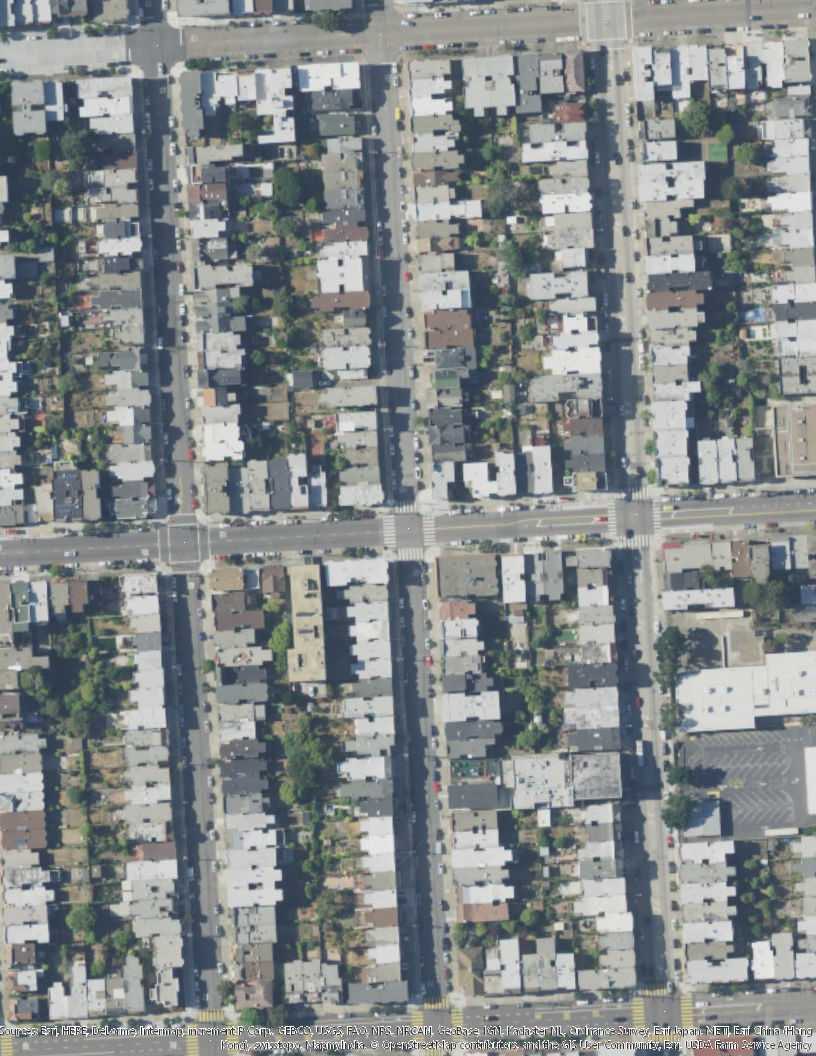zebracross: (641, 981, 676, 999), (616, 486, 655, 502), (383, 512, 398, 550), (620, 533, 651, 550), (676, 1003, 696, 1029), (421, 516, 436, 547), (422, 995, 450, 1011), (607, 501, 619, 536), (632, 997, 646, 1025), (400, 546, 425, 561), (394, 499, 417, 515), (199, 1008, 226, 1021), (449, 1008, 468, 1025), (652, 504, 663, 531), (409, 1008, 424, 1025), (186, 1036, 199, 1055), (1, 1037, 13, 1054)
